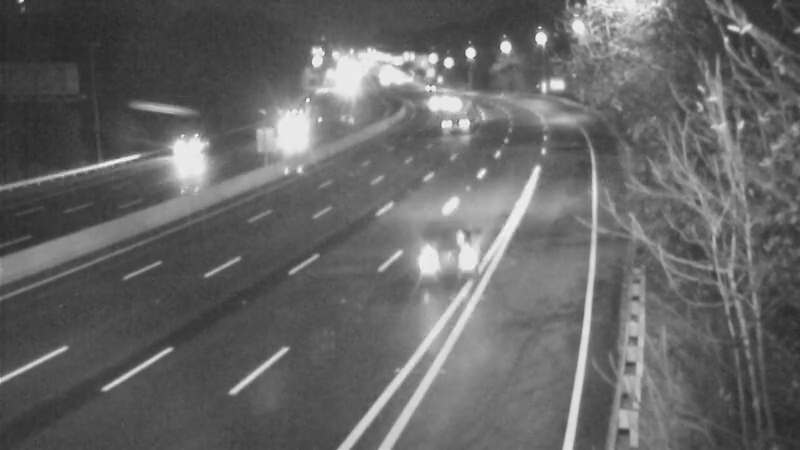vehicle: (417, 206, 497, 286), (142, 115, 222, 195), (402, 71, 452, 121), (426, 89, 476, 139), (265, 111, 315, 161)
